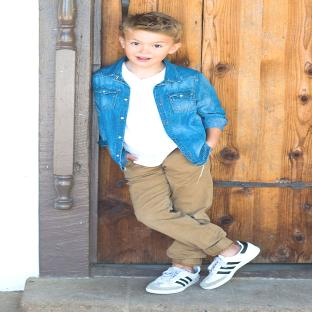Human: (93, 12, 259, 294)
